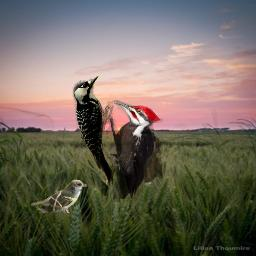Cuckoo: (31, 179, 87, 213)
Woodpecker: (68, 72, 124, 195), (104, 100, 163, 199)
